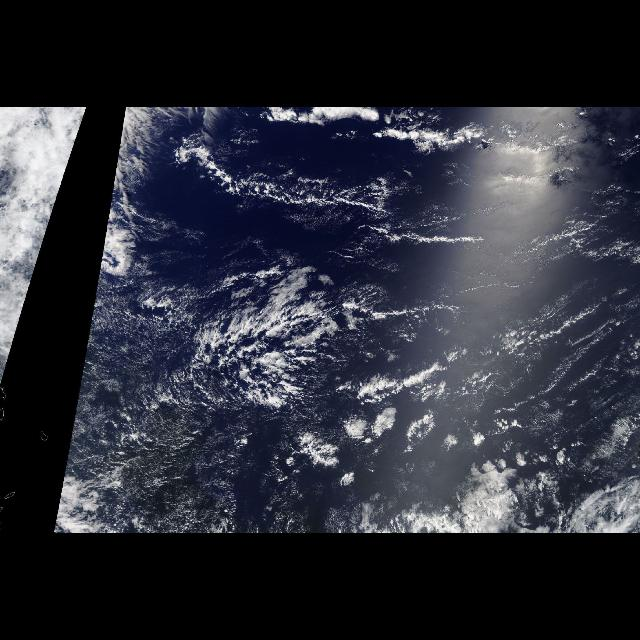Fish: (145, 113, 507, 415)
Flower: (297, 403, 485, 489)
Sugar: (528, 192, 630, 474), (73, 391, 285, 491)
